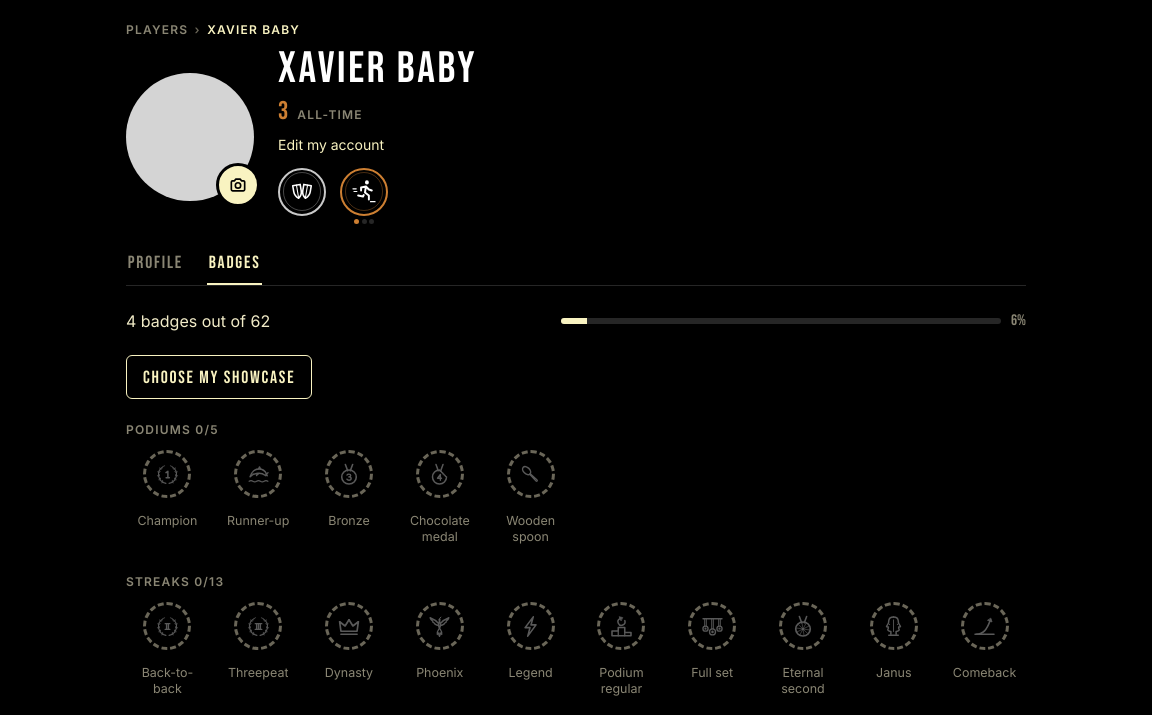
Test: player profile page › owner view: the showcase › drops the hint over pins, and starts the selection from them
Click the button "Choose my showcase": (219, 377) top-left (126, 355), bottom-right (312, 399)
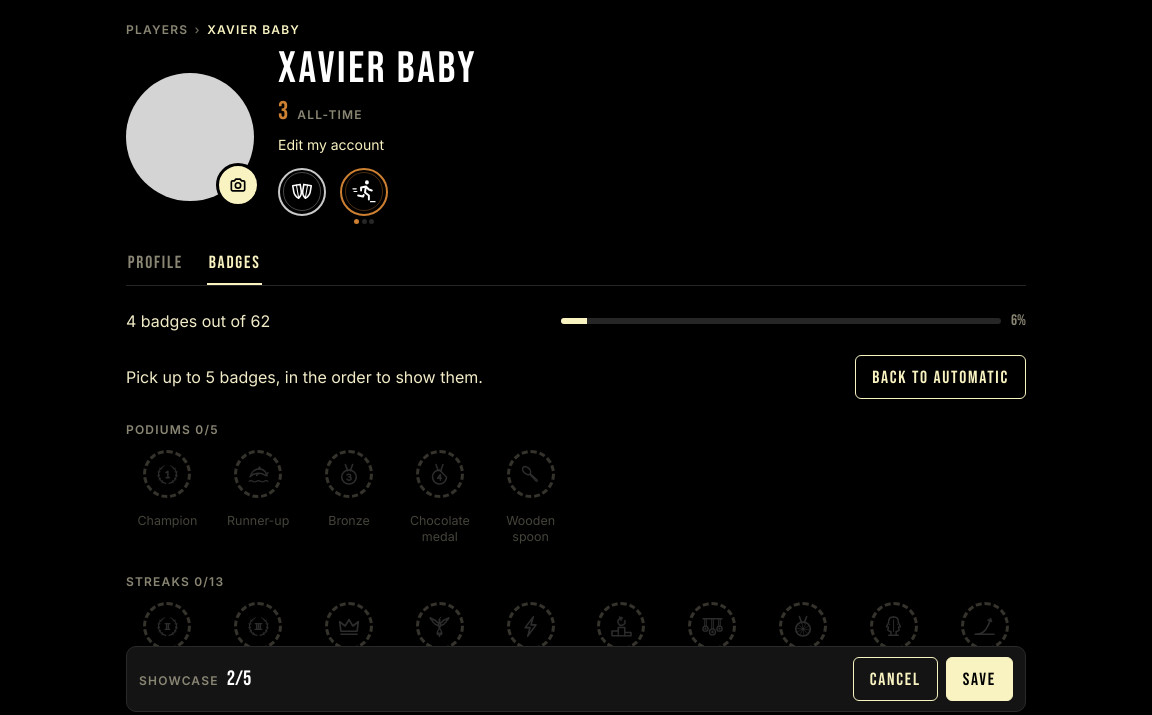
Now the button "Back to automatic" is shown, box top-left (855, 355), bottom-right (1026, 399)
